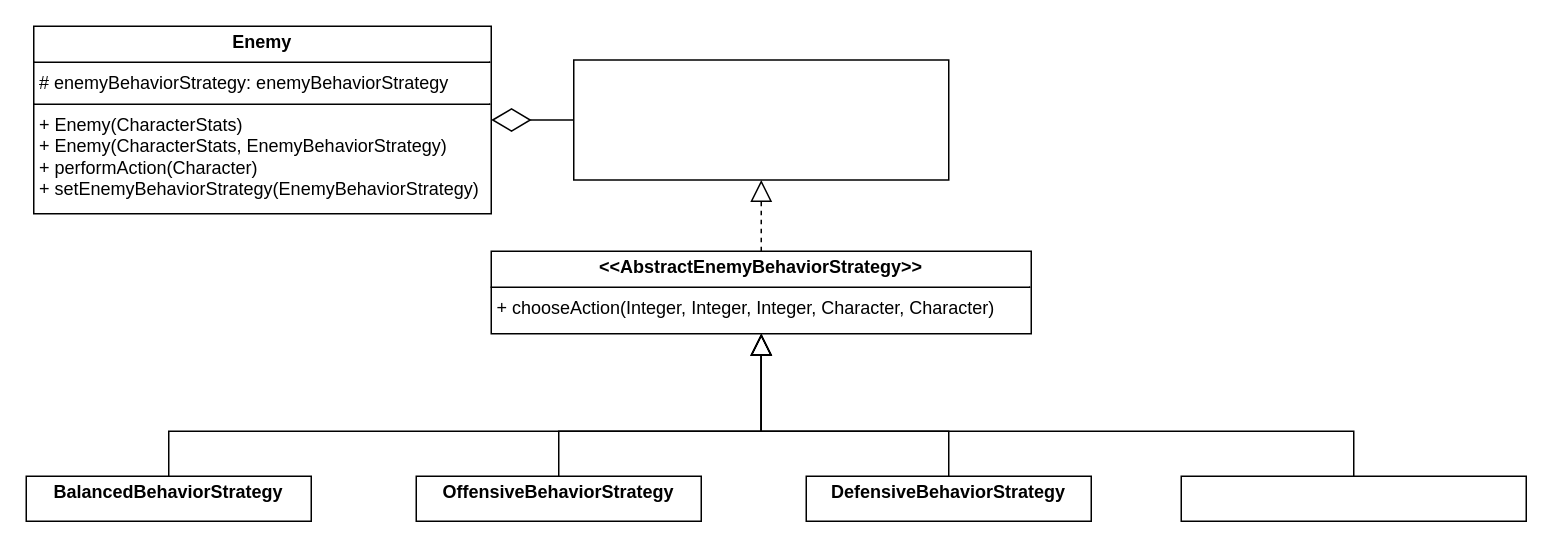
Image size: 1553x548. Some labels were removed from this diagram. The centre of each missing label's shape, as x and y in pixels:
"<<Interface>> EnemyBehaviorStrategy + performAction(Character, Character)" goes at point (760, 119).
"MagicOffensiveBehaviorStrategy" goes at point (1353, 498).
